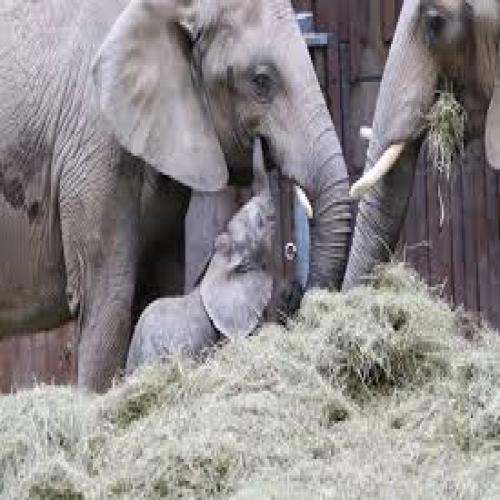asian_elephant-endangered: (0, 0, 352, 393), (342, 0, 500, 308), (122, 130, 278, 376)
